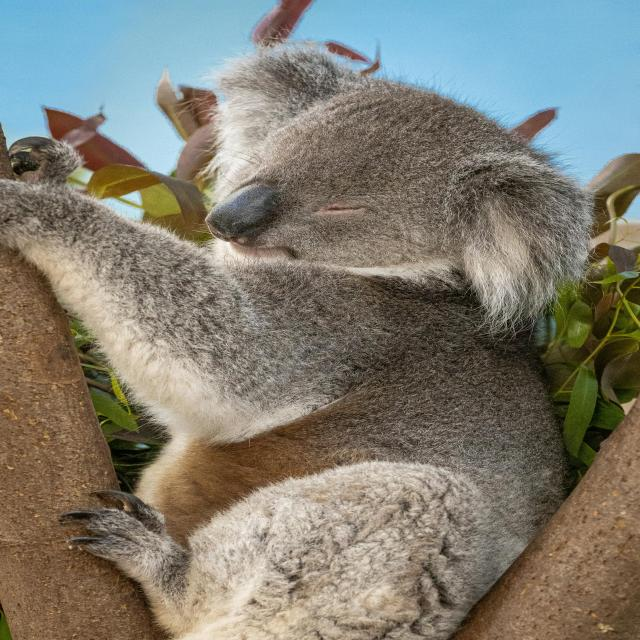Koala: (0, 44, 597, 640)
